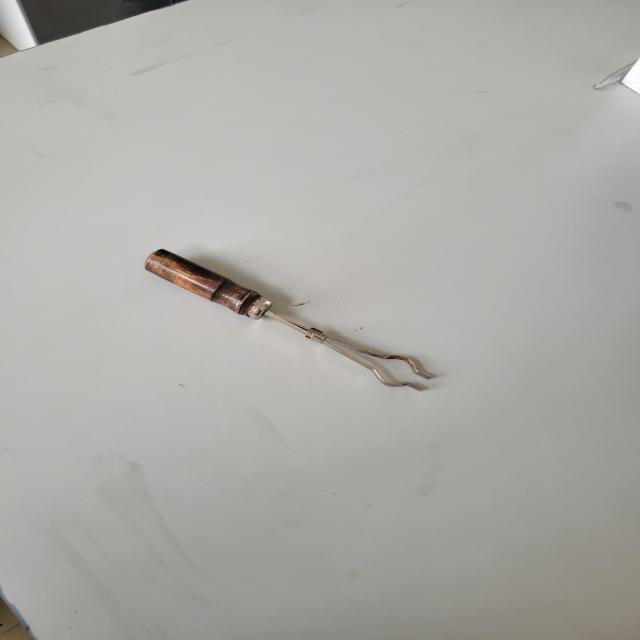TestTube_Holder: (98, 192, 462, 426)
